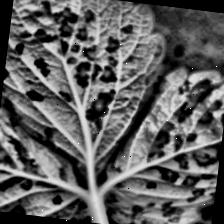Angular Leafspot: (0, 0, 170, 185), (0, 24, 119, 223), (96, 46, 224, 224)
